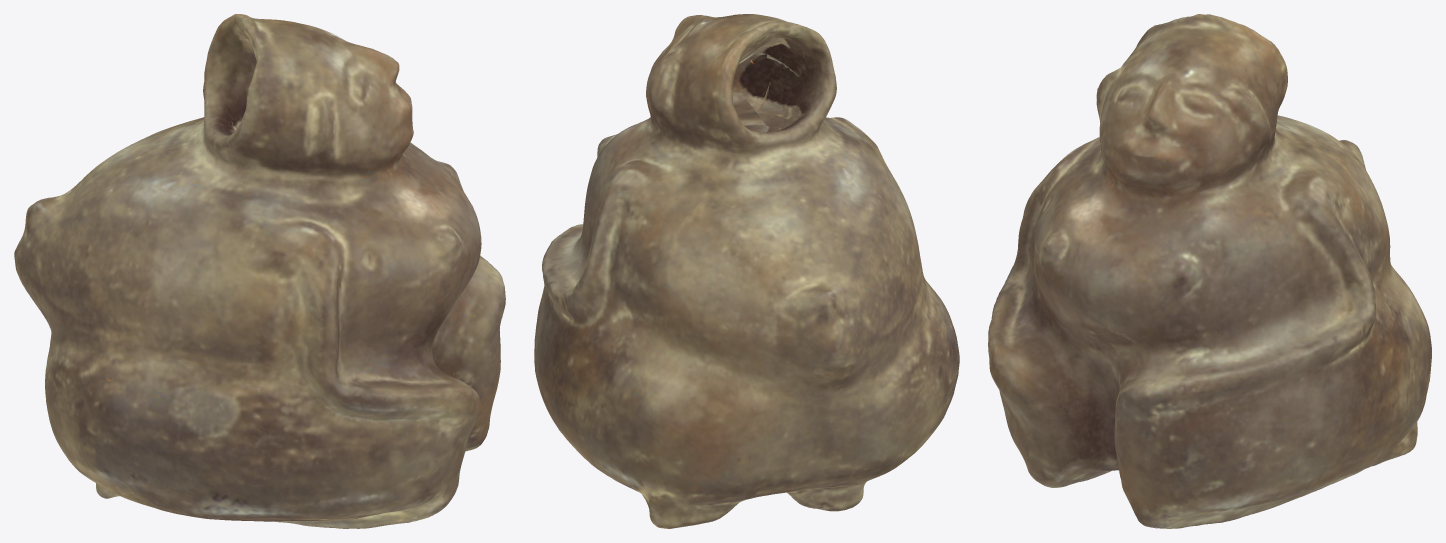
The model's file is Ark_HM_1282_HI.glb.
3 views of the same model, side by side, from view 1: azimuth 30°, elevation 25°; view 2: azimuth 150°, elevation 25°; view 3: azimuth 270°, elevation 25° (orthographic). The views are drawn at different scales.
Size of the model in its own units: 0.4547 by 0.4979 by 0.452.
Materials: 1 (1 with a texture image).
